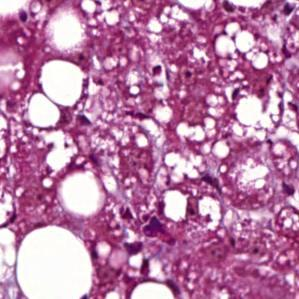steatosis: (37, 61, 87, 109)
